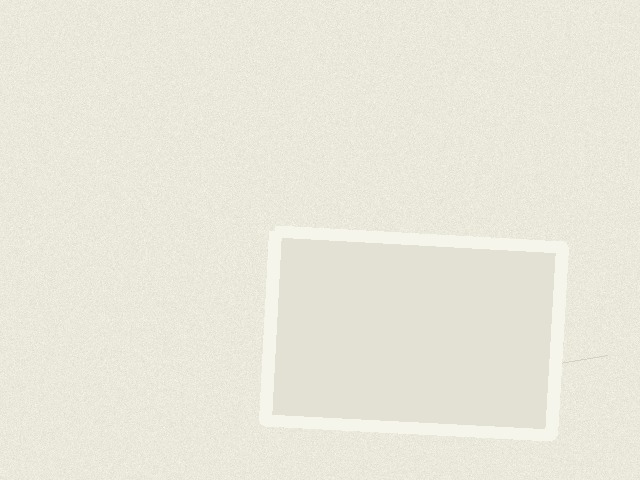parking_area: (265, 231, 562, 435)
